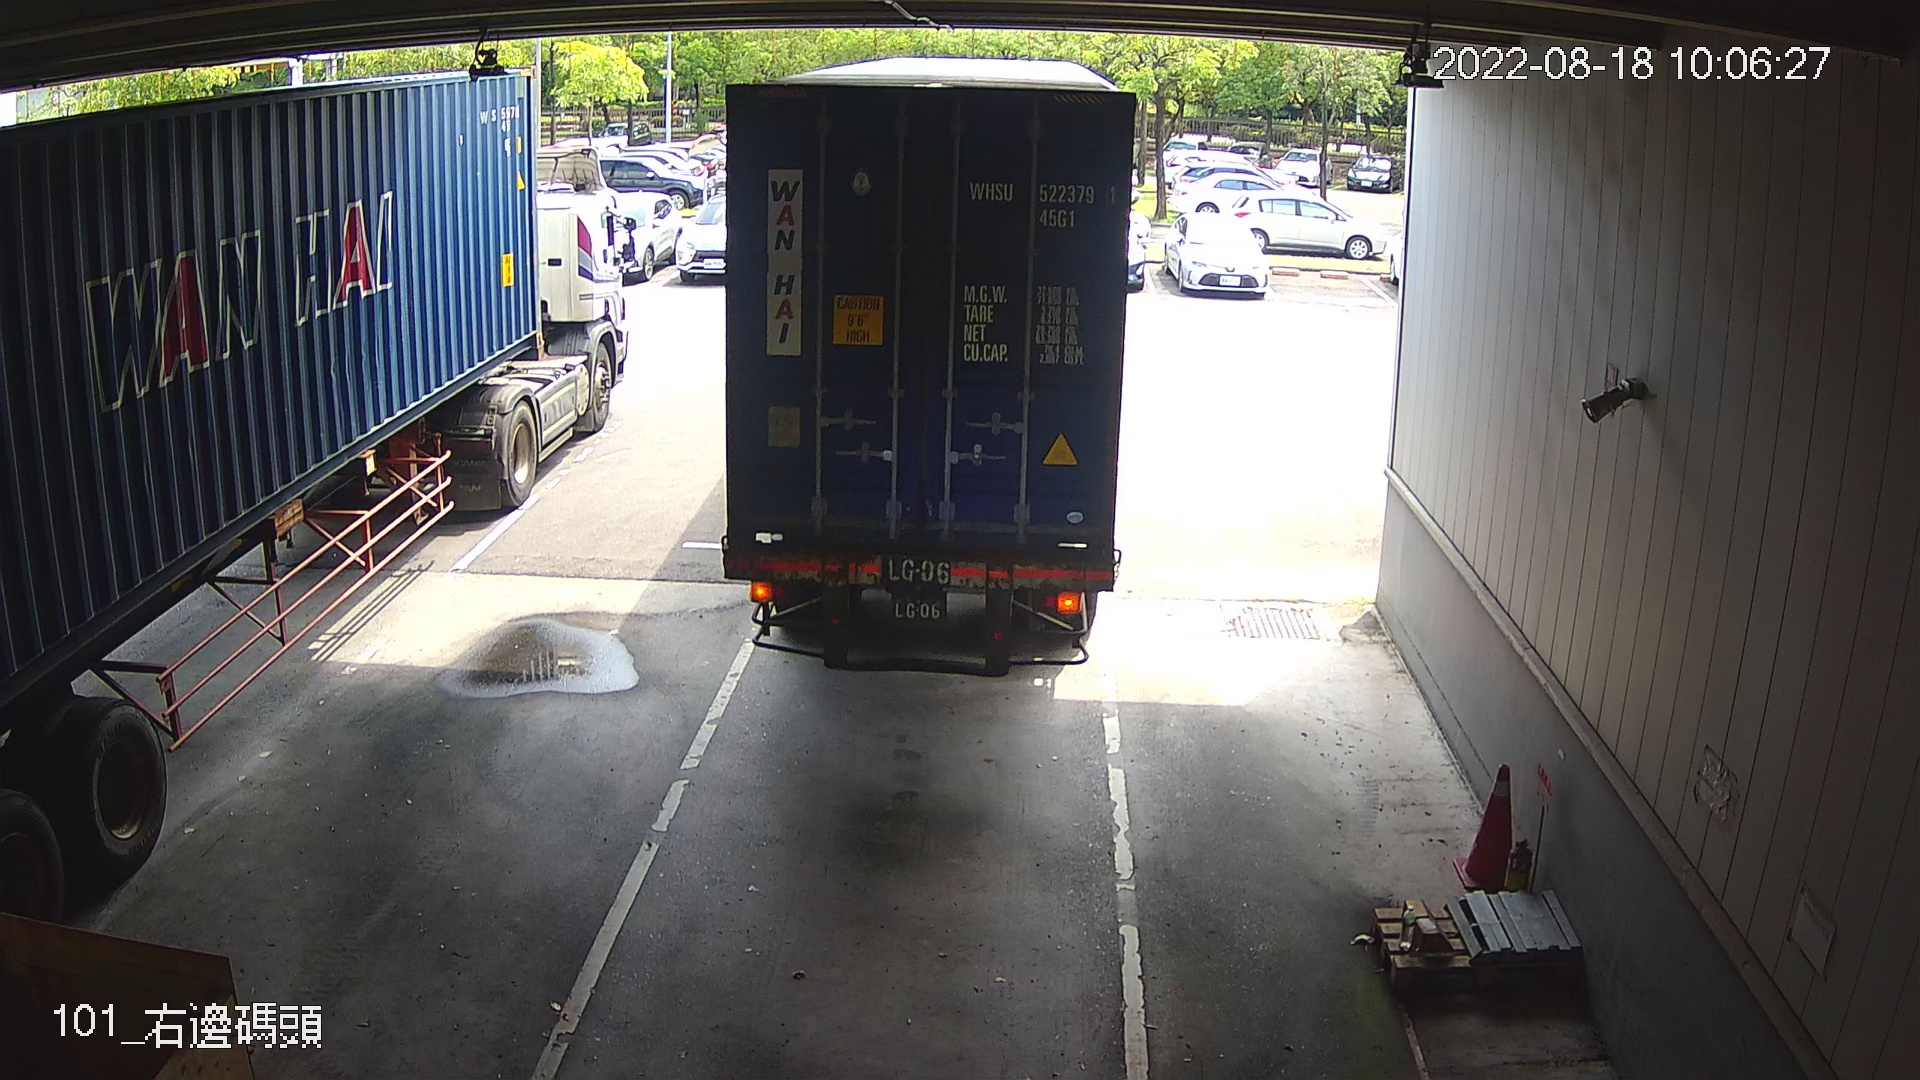container: (960, 171, 1124, 233)
